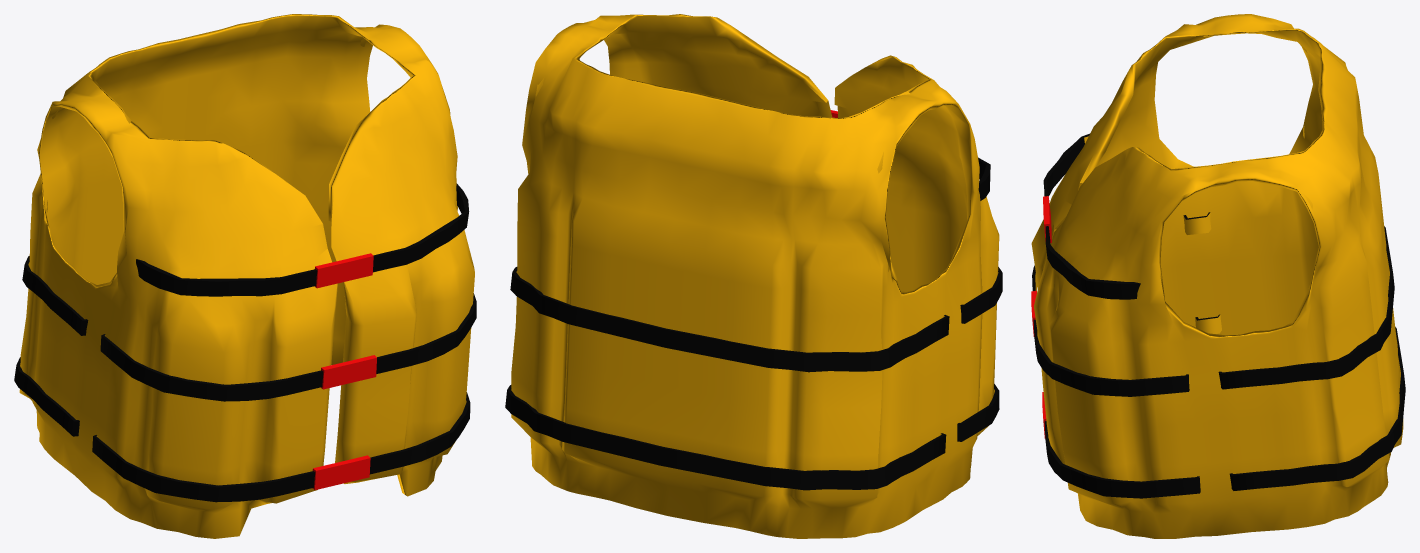
The model's file is vest.fbx.
3 renders of one model, left to right at view 1: azimuth 30°, elevation 25°; view 2: azimuth 150°, elevation 25°; view 3: azimuth 270°, elevation 25°, orthographic. The views are drawn at different scales.
Visible parts, largest first — view 1: Figure_2; view 2: Figure_2; view 3: Figure_2.
Boxes of the visible parts, x1,y1,x2,y2 form: Figure_2: (14, 14, 476, 538); Figure_2: (505, 14, 1002, 538); Figure_2: (1031, 14, 1405, 538).
Bounding box in the file's own units: 17.27 × 18.56 × 16.41.
